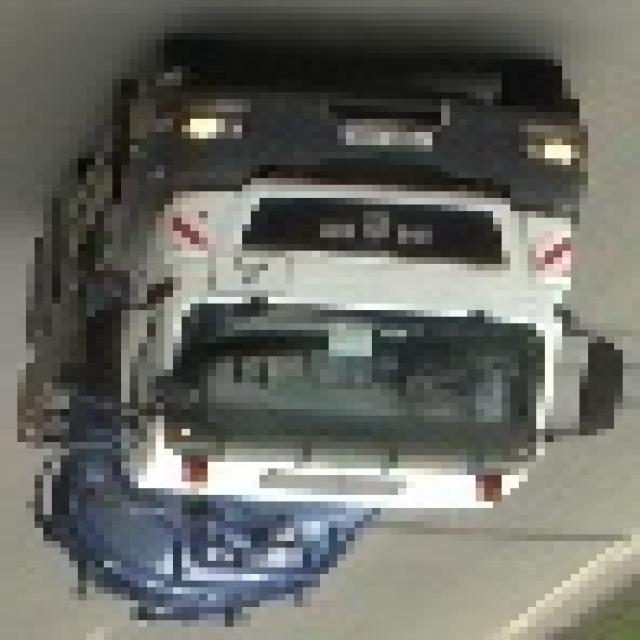truck: (9, 59, 632, 627)
